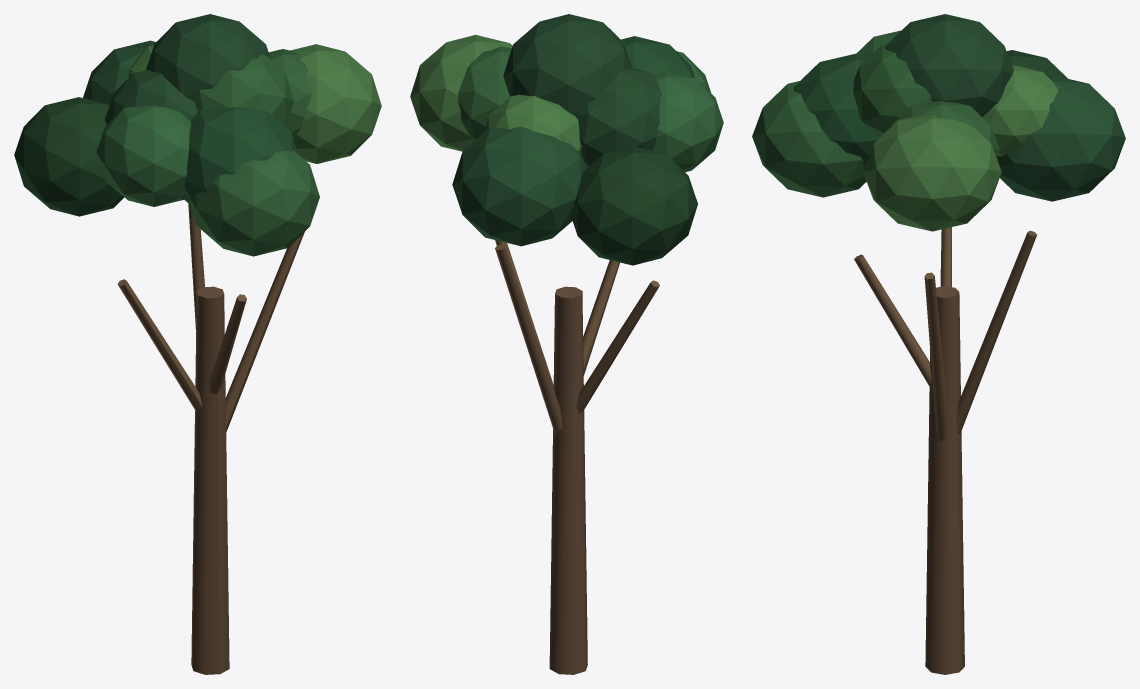
The model's file is broadleaf-oval.mid.glb.
3 views of the same model, side by side, from view 1: azimuth 30°, elevation 25°; view 2: azimuth 150°, elevation 25°; view 3: azimuth 270°, elevation 25° (orthographic).
Visible parts, largest first — view 1: foliage, wood; view 2: foliage, wood; view 3: foliage, wood.
Boxes of the visible parts, bbox=[...] form: foliage: bbox=[14, 14, 381, 256]; wood: bbox=[117, 203, 304, 674]; foliage: bbox=[410, 14, 723, 265]; wood: bbox=[495, 240, 659, 674]; foliage: bbox=[752, 14, 1125, 231]; wood: bbox=[854, 227, 1036, 674].
Bounding box in the file's own units: 5.98 × 12 × 6.29.
